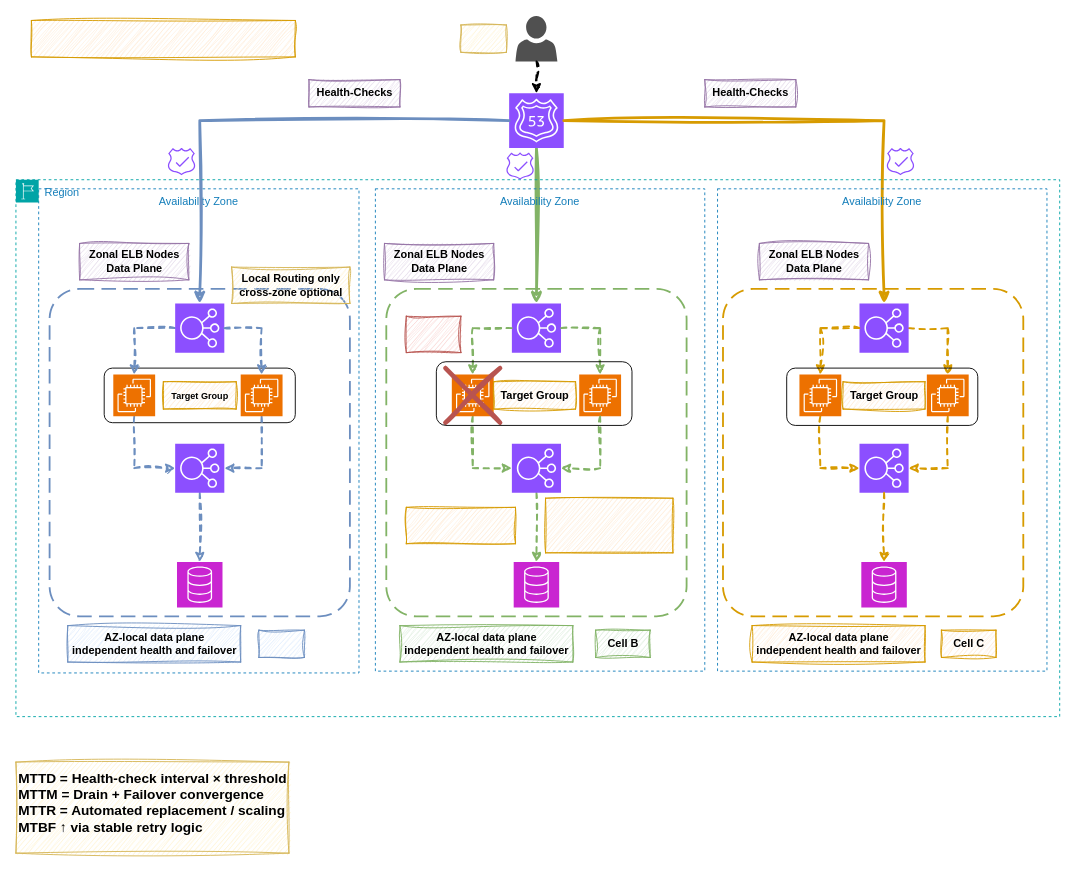
Image size: 1076x869. Some labels were removed from this diagram. Each missing label, with the centre of its shape:
"Cell A" goes at point 281,643.
"Connection Draining Graceful target exit" goes at point 460,525.
"Region boundary Control Plane applied configuration across all cells" goes at point 162,38.
"Slow Start Gradual traffic ramp-up for new targets" goes at point 609,525.
"Target Failed" goes at point 433,334.
"Users" goes at point 483,38.
